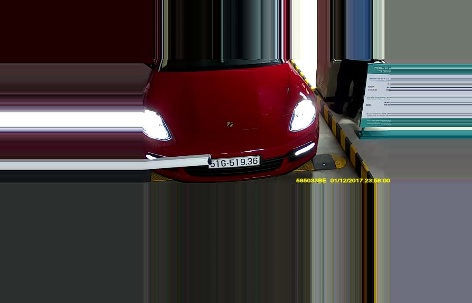plate: (205, 153, 263, 168)
